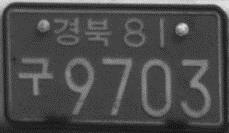0: (138, 58, 174, 117)
1: (156, 15, 166, 51)
3: (178, 56, 212, 119)
7: (100, 56, 134, 118)
8: (122, 15, 146, 48)
9: (63, 54, 96, 117)
경북_O: (52, 15, 112, 48)
구: (15, 55, 54, 97)
